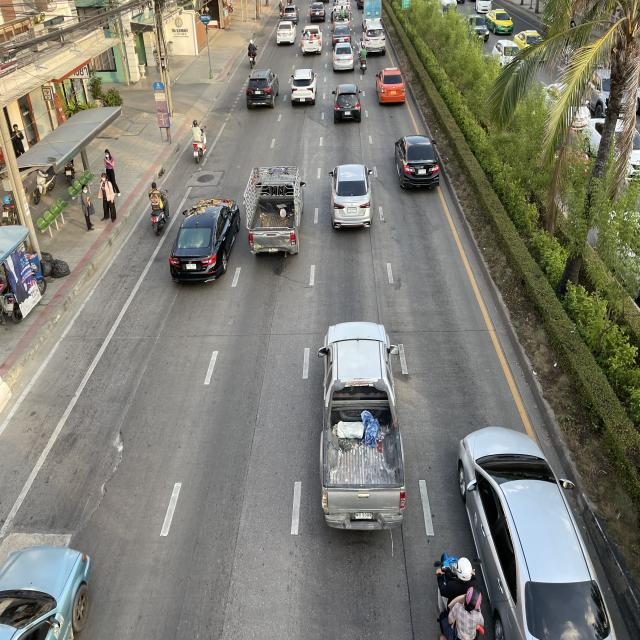bike: (430, 546, 490, 640), (147, 179, 171, 238), (187, 116, 208, 166), (246, 38, 258, 68)
car: (456, 420, 620, 640), (168, 196, 241, 285), (328, 162, 376, 230), (394, 133, 440, 192), (243, 66, 281, 112), (332, 82, 362, 125), (290, 64, 318, 109), (375, 67, 406, 105)
truck: (316, 318, 408, 539), (243, 163, 306, 258)
